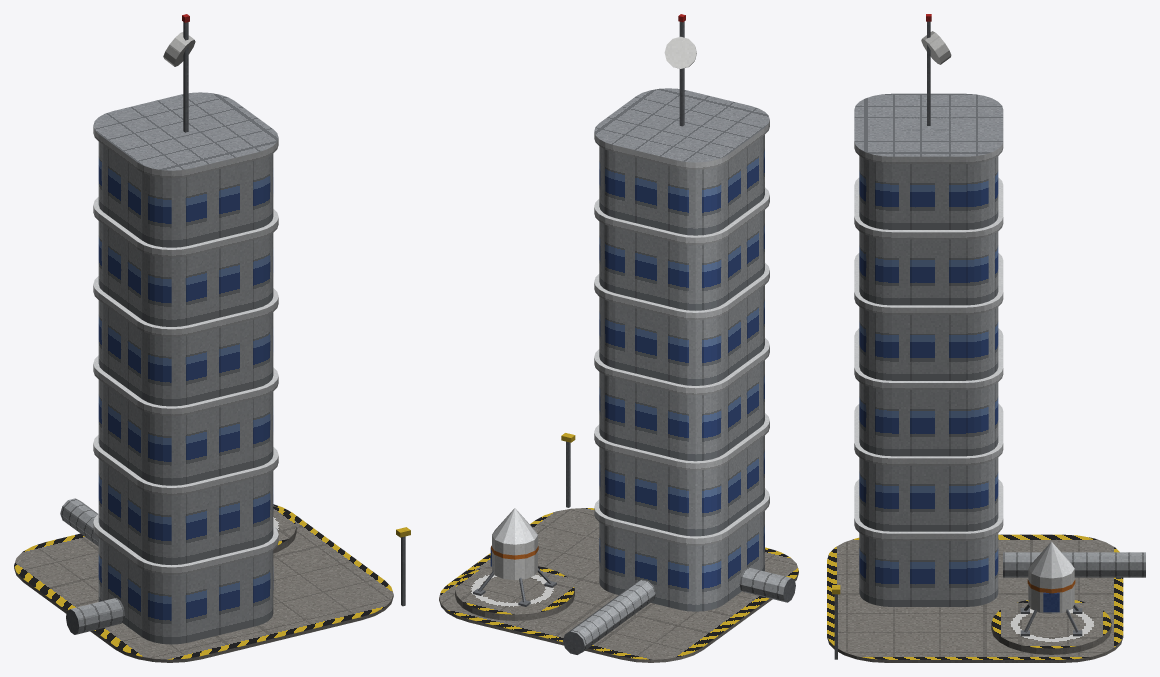
File: mars_3_inhab_vez_b.glb
3 renders of one model, left to right at view 1: azimuth 30°, elevation 25°; view 2: azimuth 150°, elevation 25°; view 3: azimuth 270°, elevation 25°, orthographic. The views are drawn at different scales.
Visible parts, largest first — view 1: inhab_vez_b; view 2: inhab_vez_b; view 3: inhab_vez_b.
Boxes of the visible parts, x1,y1,x2,y2 form: inhab_vez_b: (14,14,410,662); inhab_vez_b: (439,14,798,662); inhab_vez_b: (827,14,1145,662).
Size of the model in its own units: 13.78 by 26.97 by 13.78.
1 material, 1 textured.
